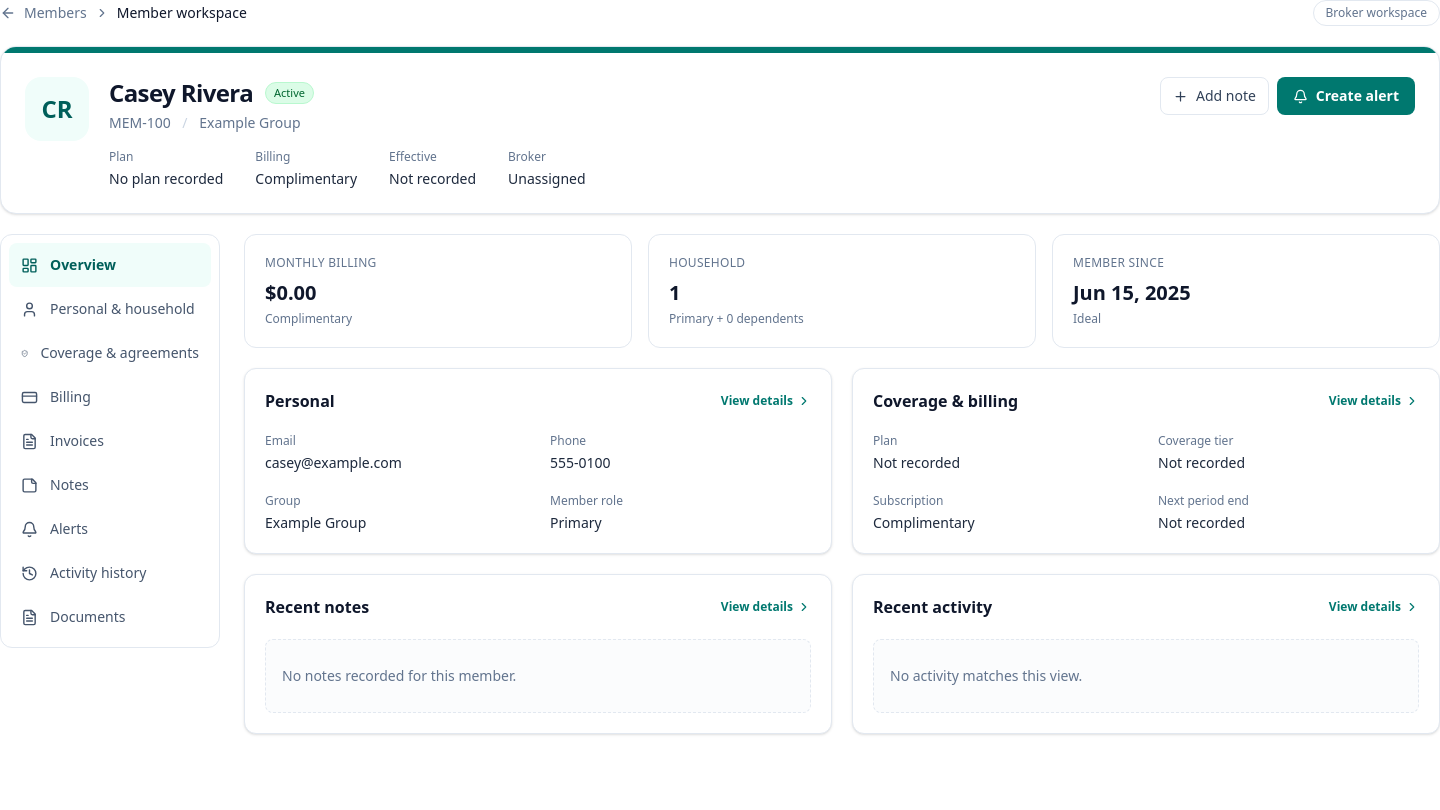
member workspace interactions › broker notes save through the mutation and failed saves preserve entered content
This screenshot has width=1440, height=810.
Click the button "Add note" at (1214, 96), box [1160, 77, 1269, 115]
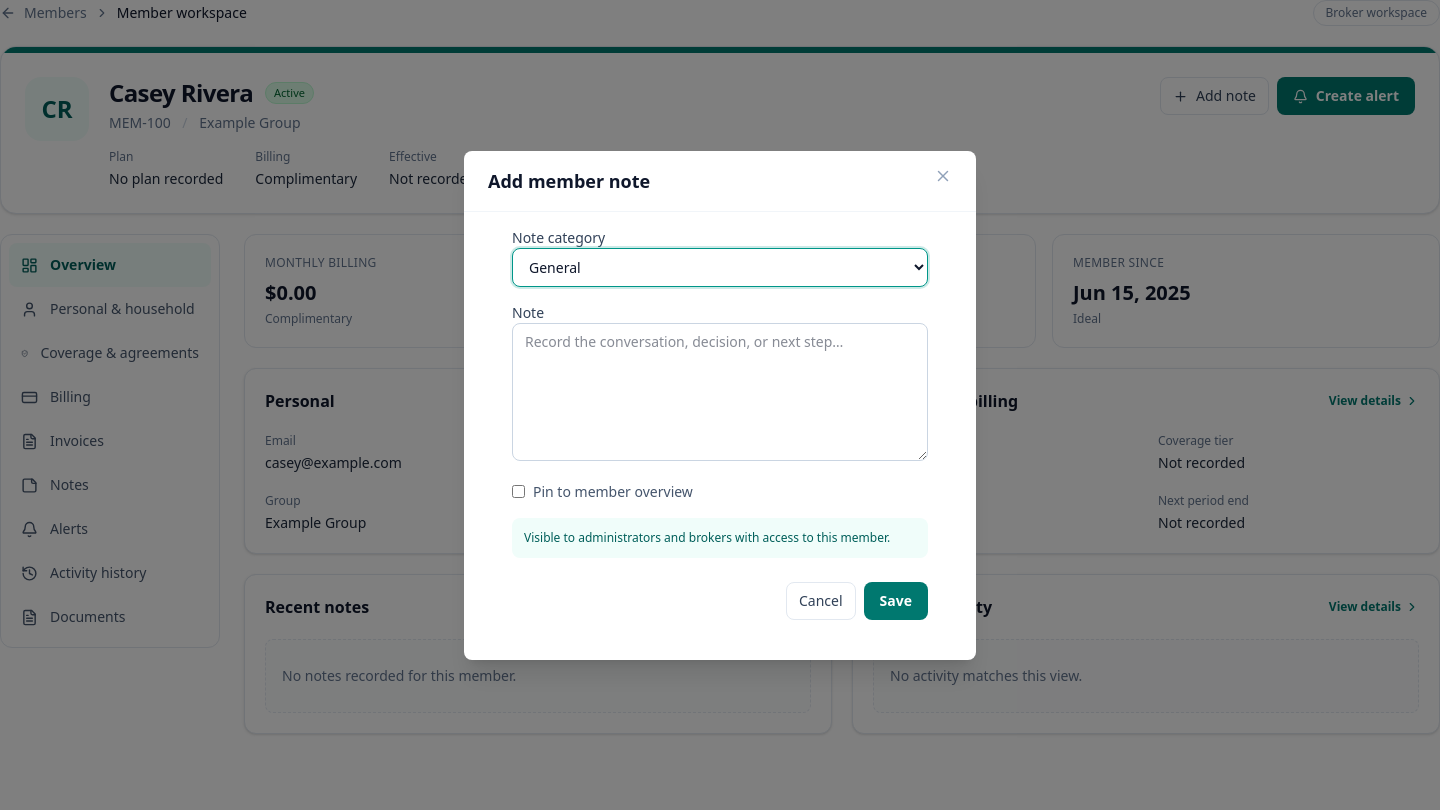
Type "Call back on Friday" into the text box labelled "Note" at (720, 392), box [512, 322, 928, 460]
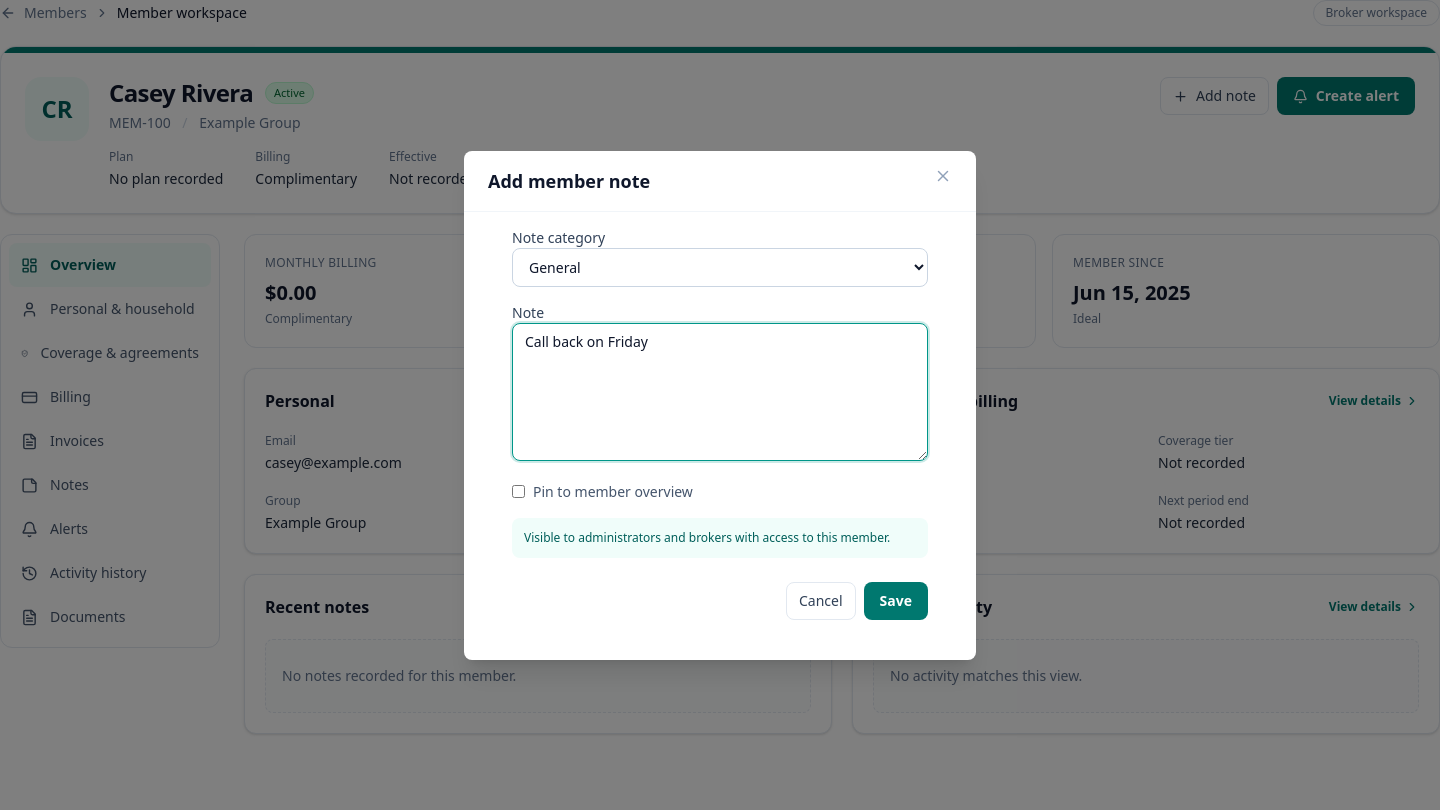
Click the button "Save" at (896, 600), box [864, 582, 928, 620]
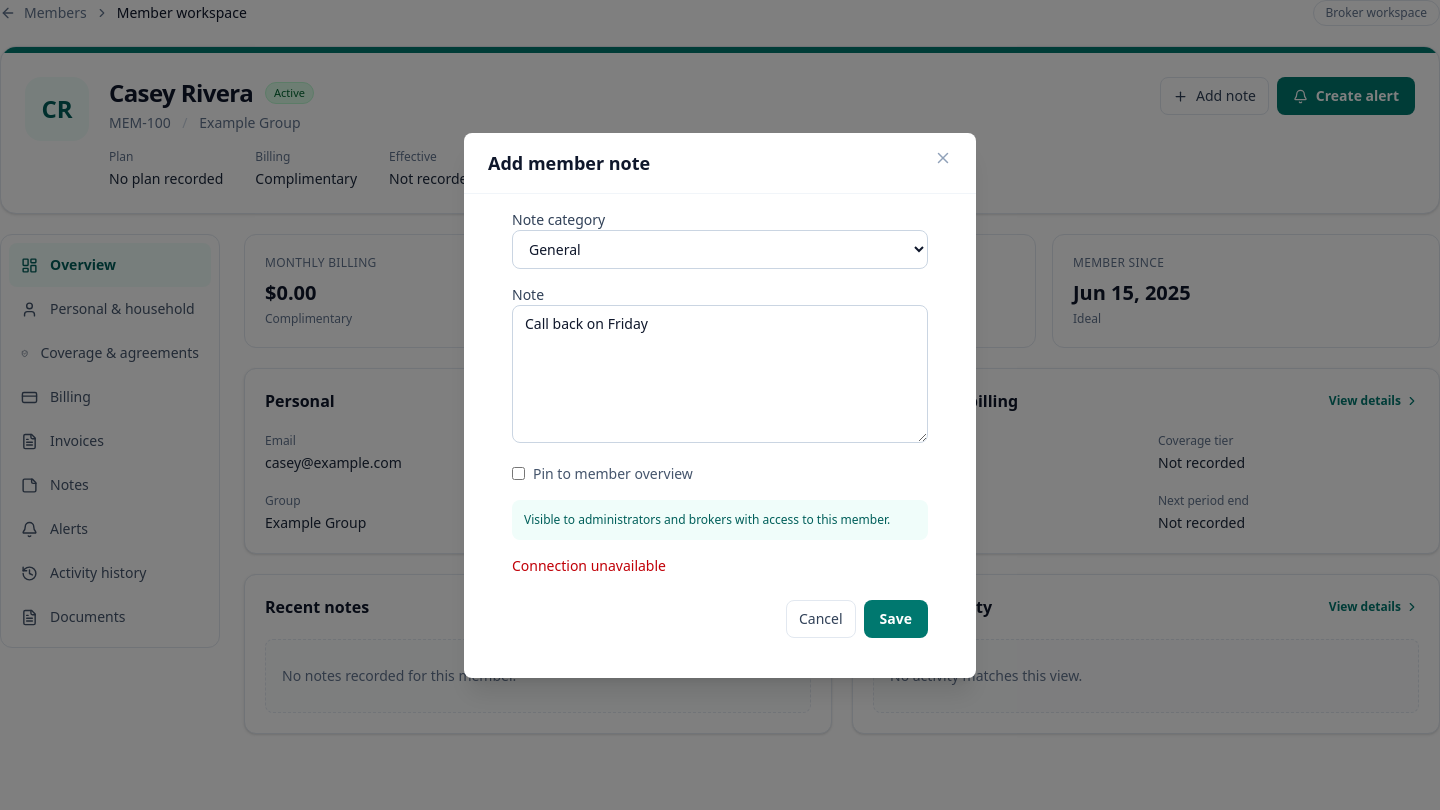
Expected: the message reads "Connection unavailable", [512, 556, 666, 574]
Click the button "Save" at (896, 618), box [864, 600, 928, 638]
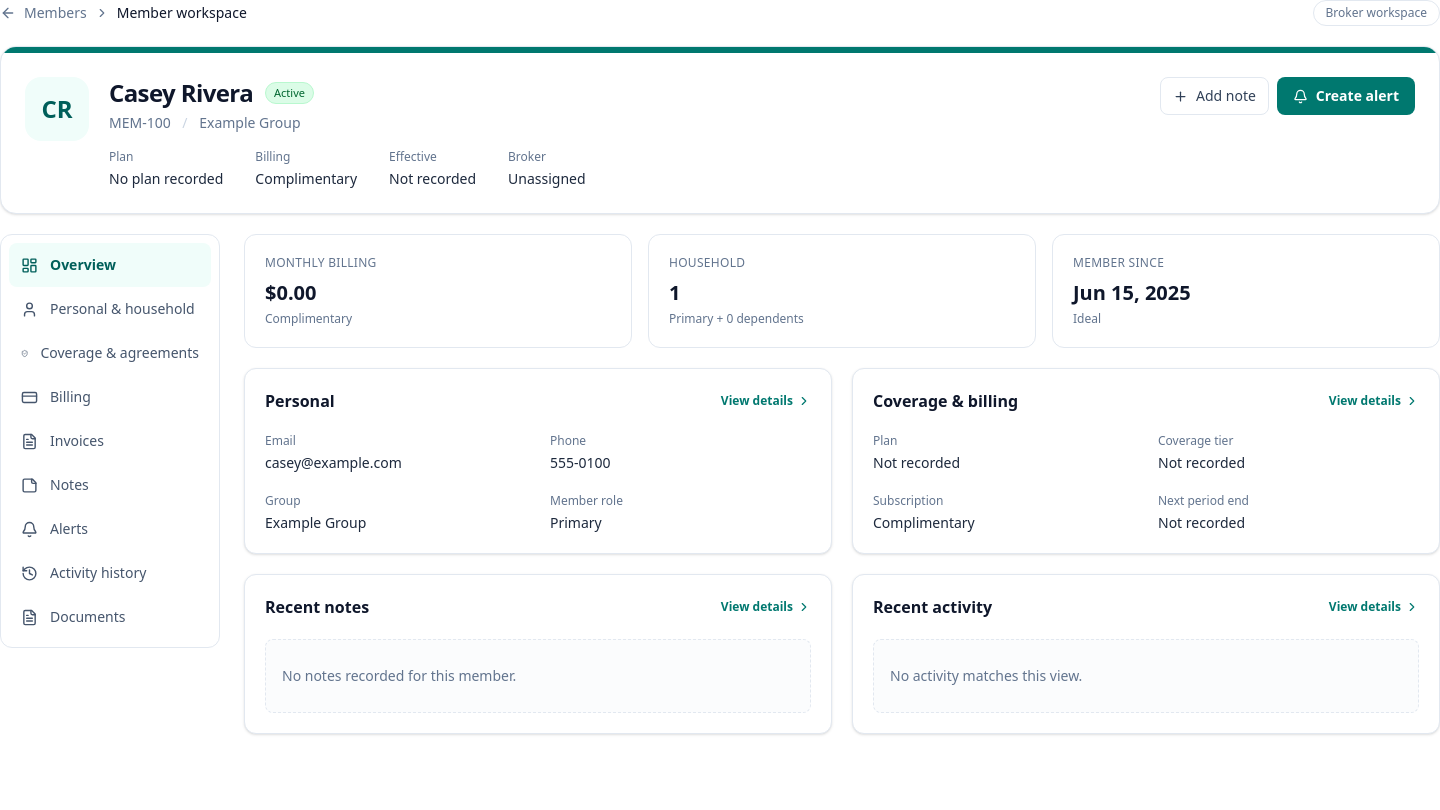
Expected: the dialog is gone
